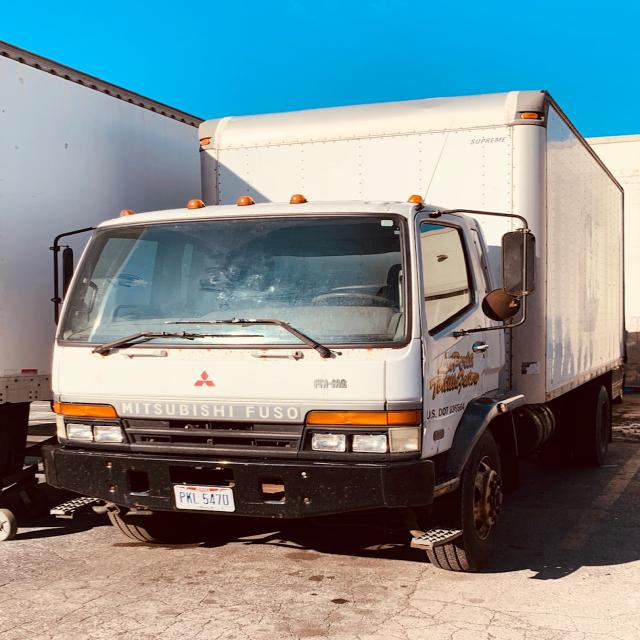truck: (39, 84, 627, 554)
